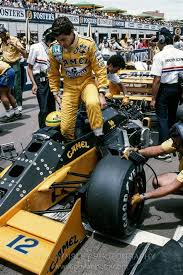FormulaOneCar: (2, 67, 163, 275)
